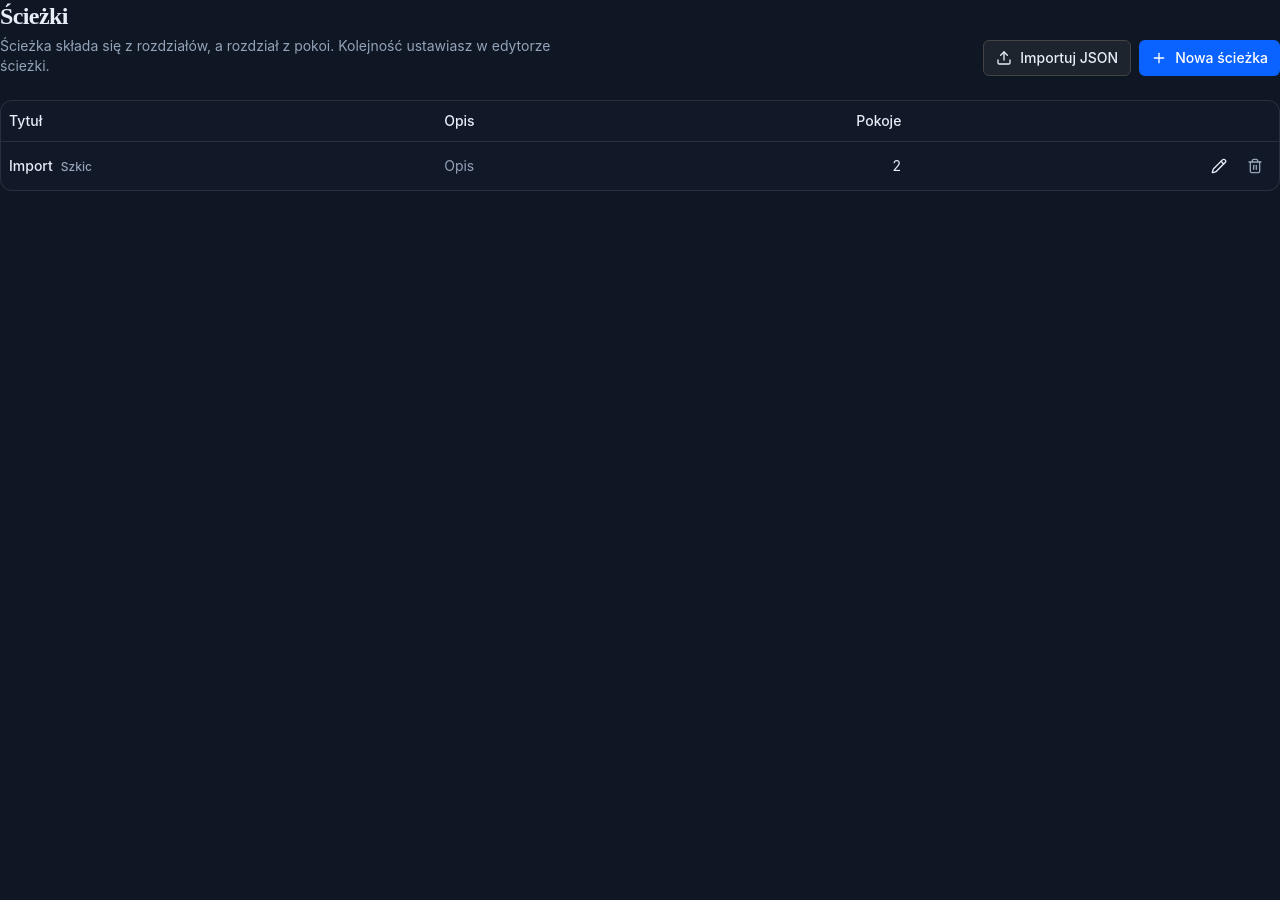
learning path import › keeps existing draft rows editable and handles deletion success and failure
Check: the text "Szkic" is shown, box [61, 158, 92, 174]
Click the button named "Usuń Import" at (1255, 166), box [1239, 150, 1271, 182]
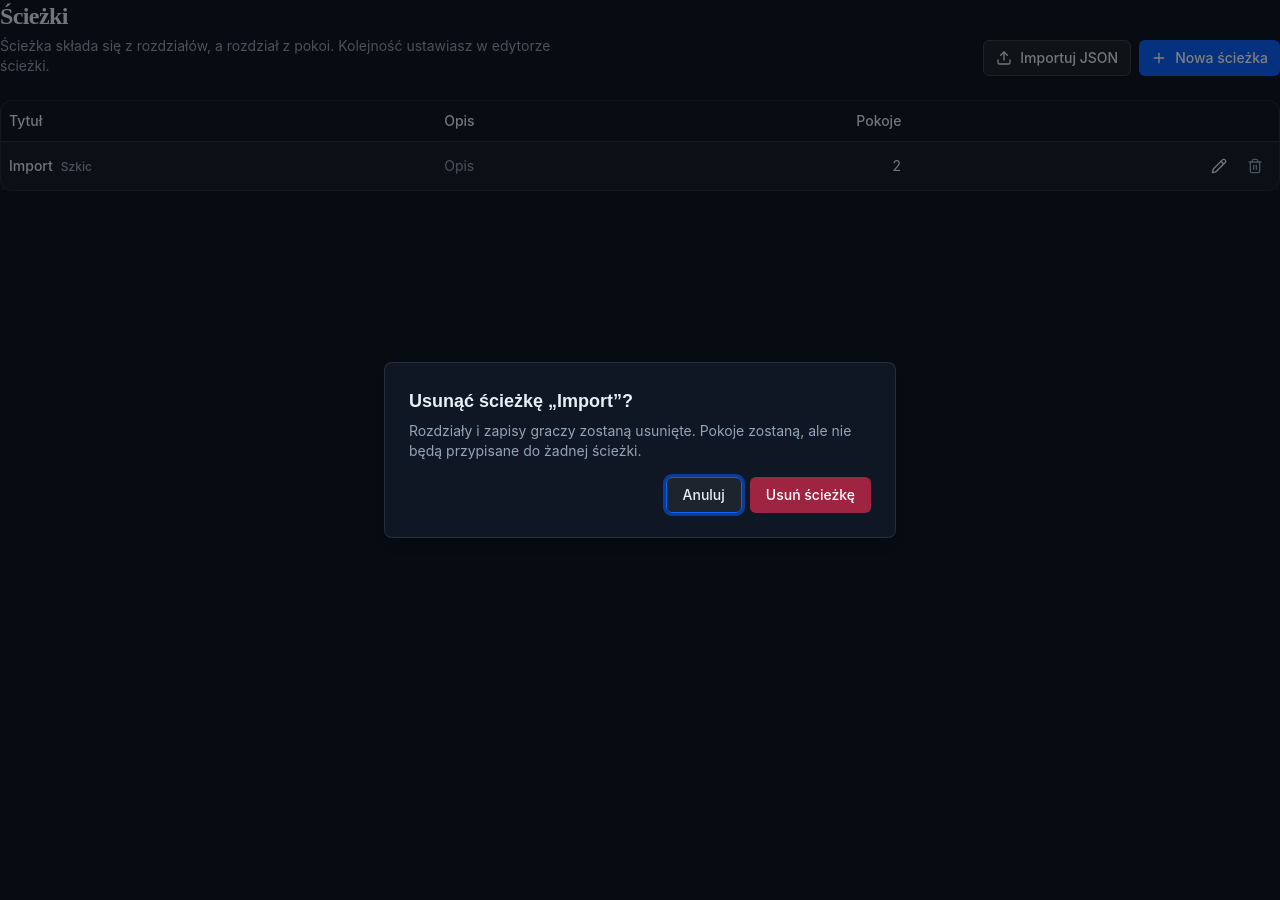
Click the button "Usuń ścieżkę" at (810, 495), box [750, 477, 871, 513]
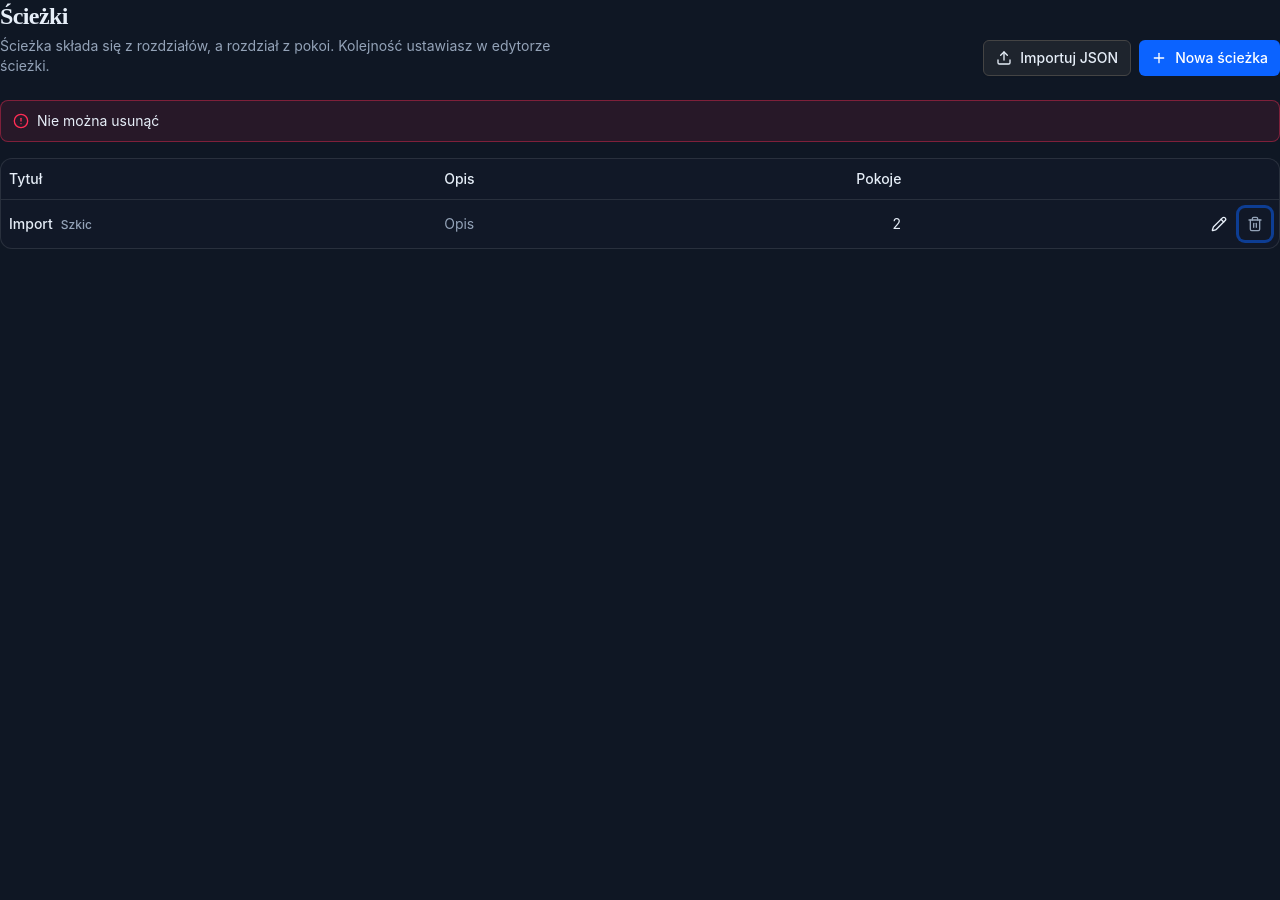
Check: the link "Import" is shown, box [9, 214, 53, 232]
Check: the text "Nie można usunąć" is shown, box [37, 111, 159, 131]
Click the button named "Usuń Import" at (1255, 224), box [1239, 208, 1271, 240]
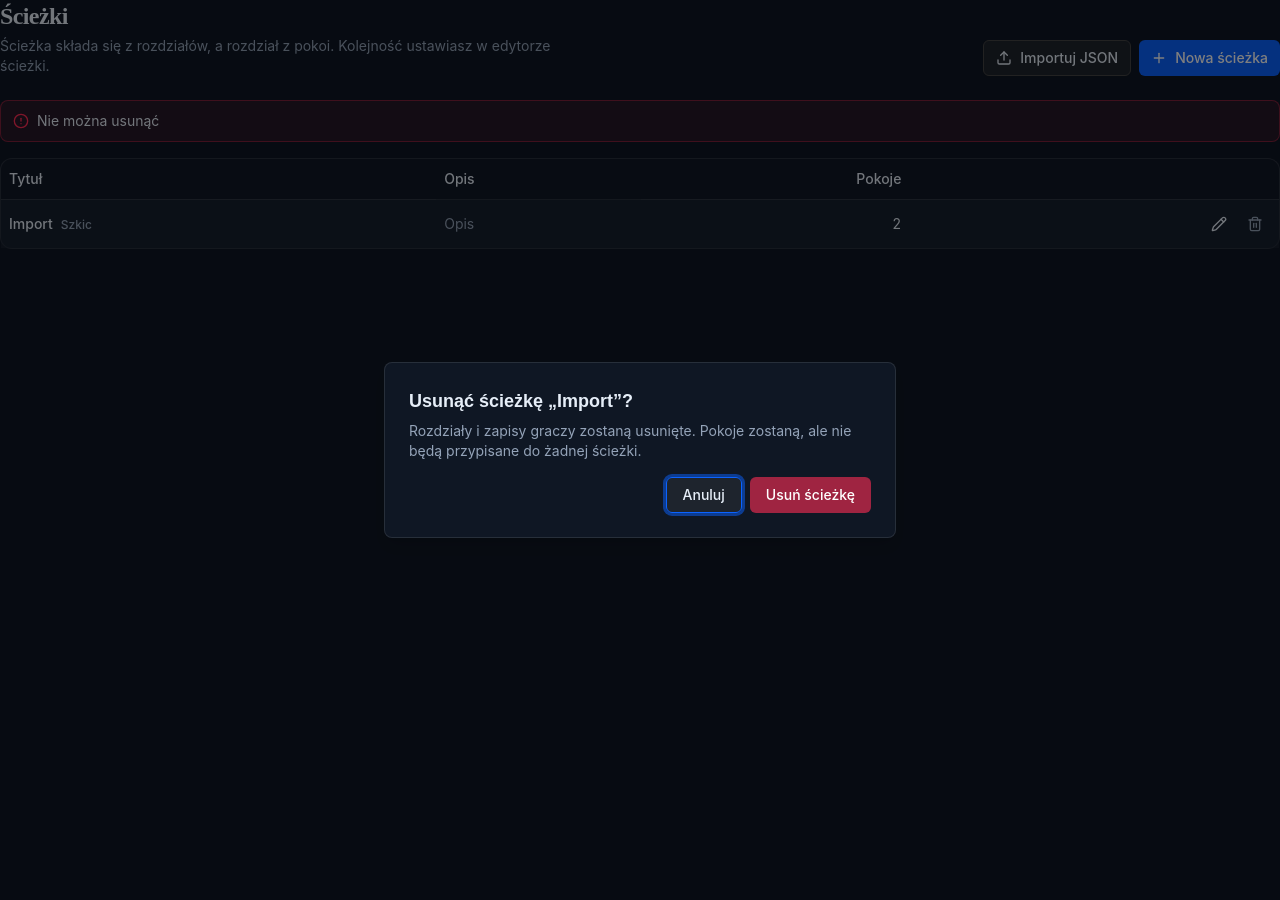
Click the button "Usuń ścieżkę" at (810, 495), box [750, 477, 871, 513]
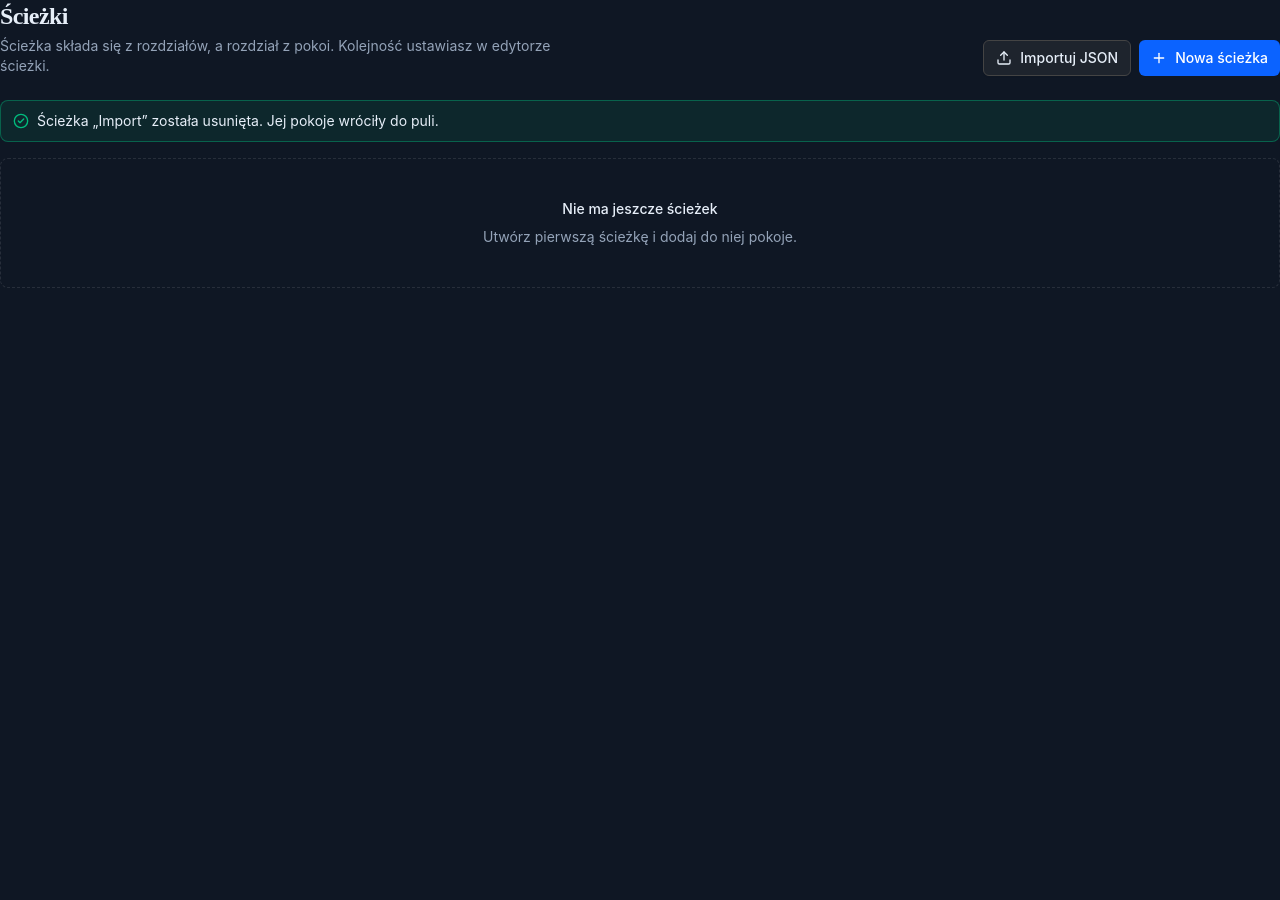
Check: the text "Ścieżka „Import” została usunięta" is shown, box [37, 112, 439, 129]
